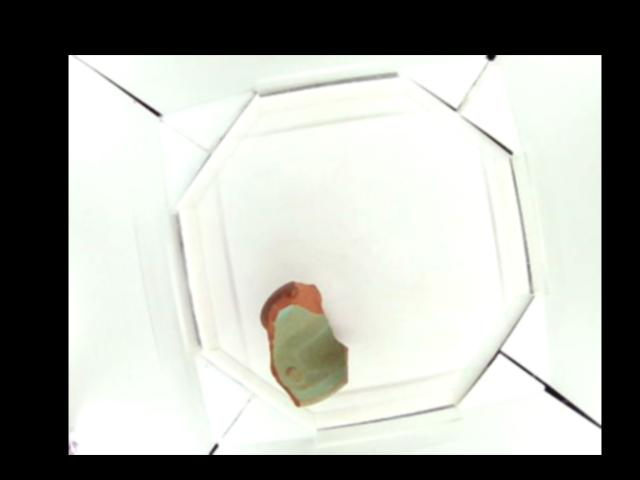China: (255, 279, 349, 409)
